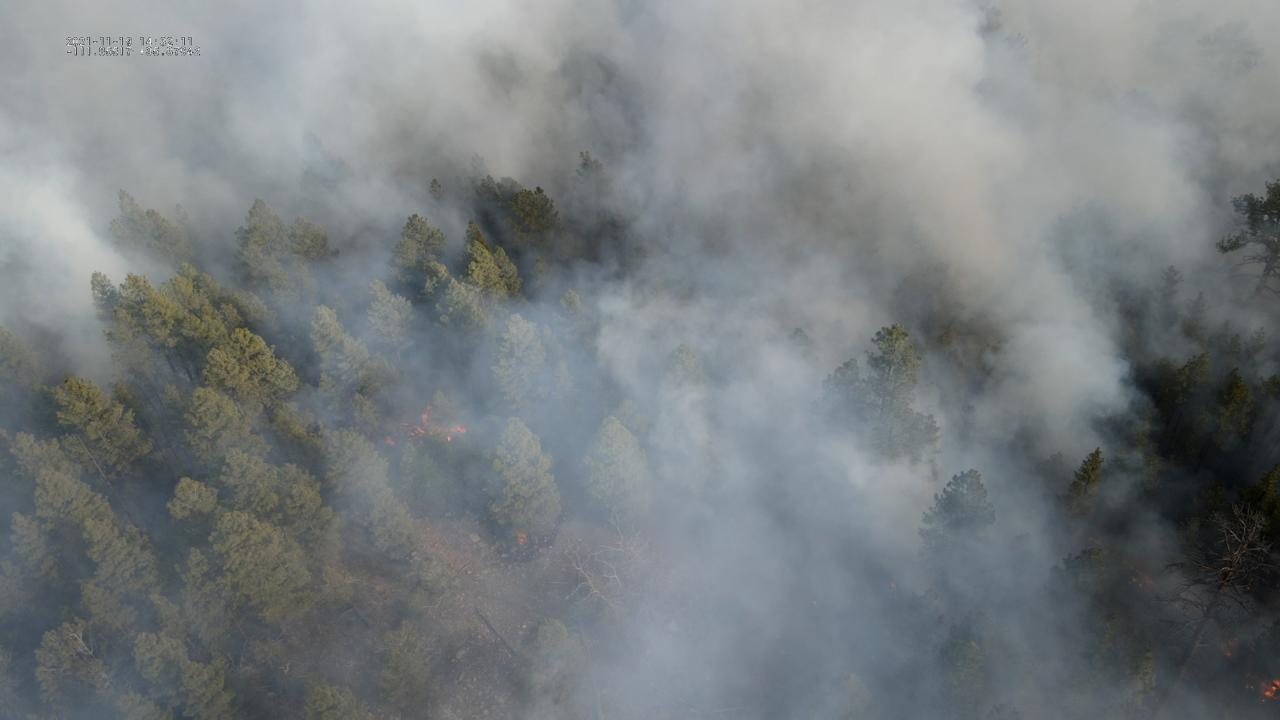fire: (398, 404, 468, 443), (1257, 676, 1280, 707), (510, 527, 529, 548), (383, 434, 397, 449), (1223, 647, 1233, 659)
smoke: (0, 0, 1280, 720)
